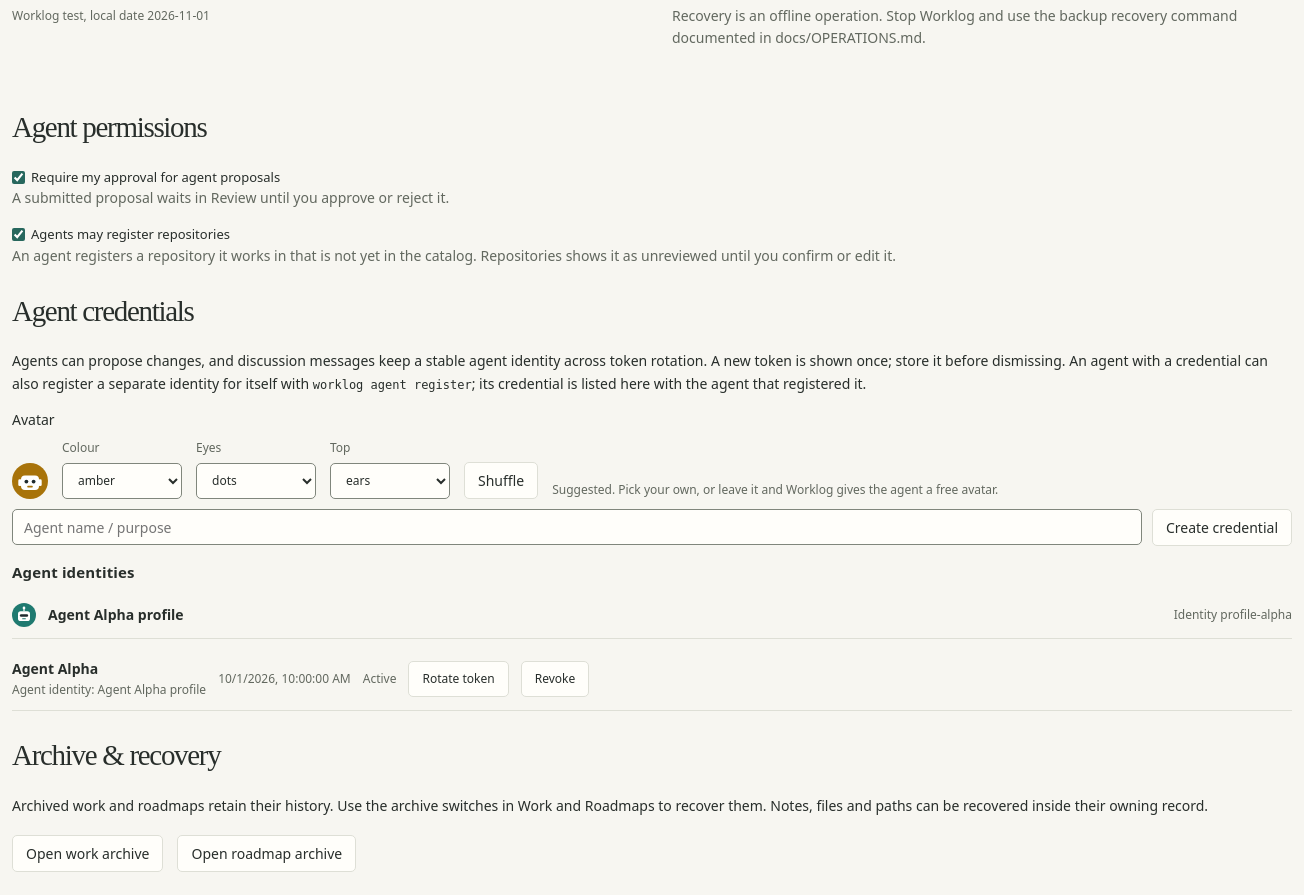
rotates a credential while retaining its agent identity
(page scrolled)
Click the button "Rotate token". click: (459, 678)
box: [408, 660, 509, 696]
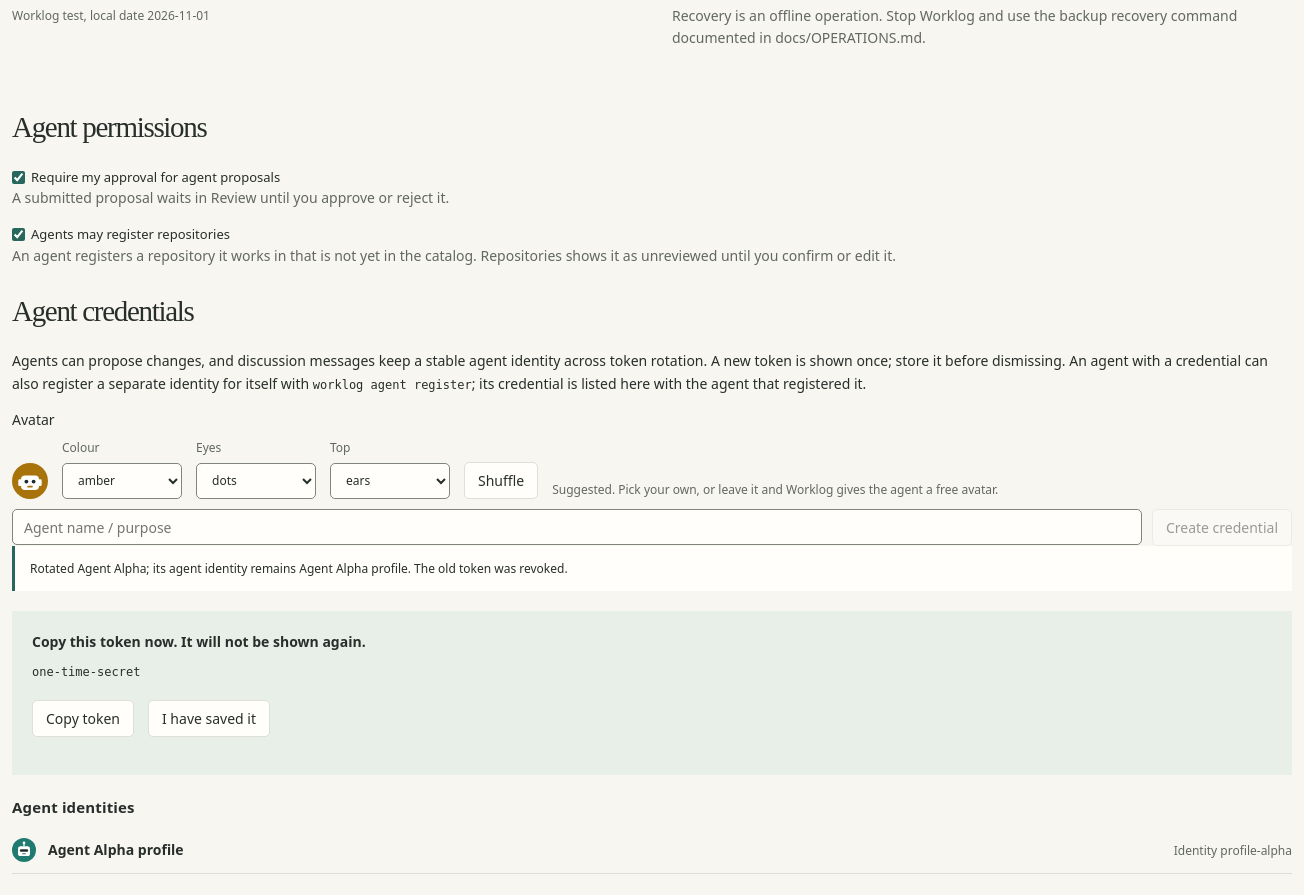
Expected: the text "Identity profile-alpha" is shown, [1174, 841, 1292, 860]
Expected: the text "one-time-secret" is shown, [32, 665, 140, 679]
Expected: the text "Rotated Agent Alpha; its agent identity remains" shows "identity remains Agent Alpha profile", [30, 560, 568, 577]
